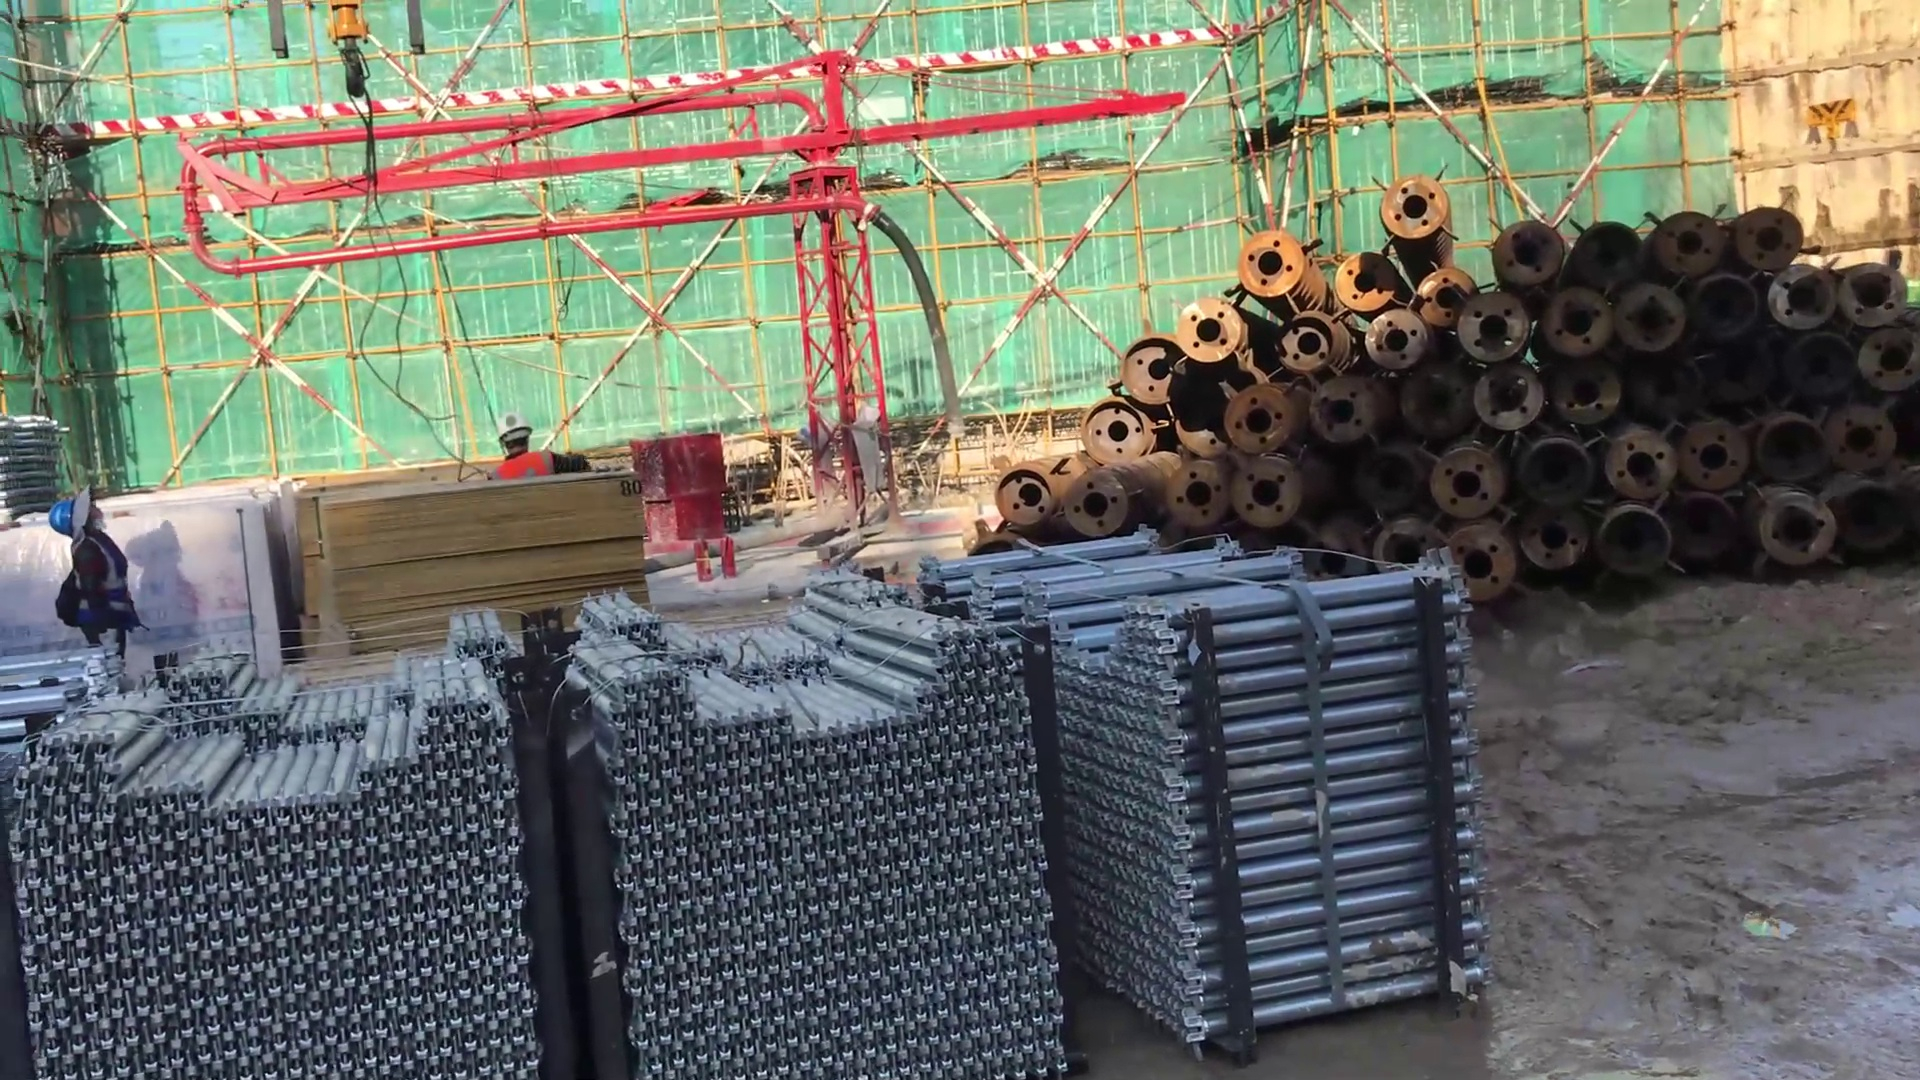board: (300, 480, 655, 643)
helmet: (48, 493, 111, 548), (495, 404, 550, 456)
person: (44, 490, 145, 676), (475, 408, 589, 486)
scaffold: (908, 534, 1515, 1024), (584, 551, 1069, 1080), (16, 596, 500, 1080), (1, 412, 101, 523)
vest: (66, 532, 143, 648), (480, 453, 570, 487)
